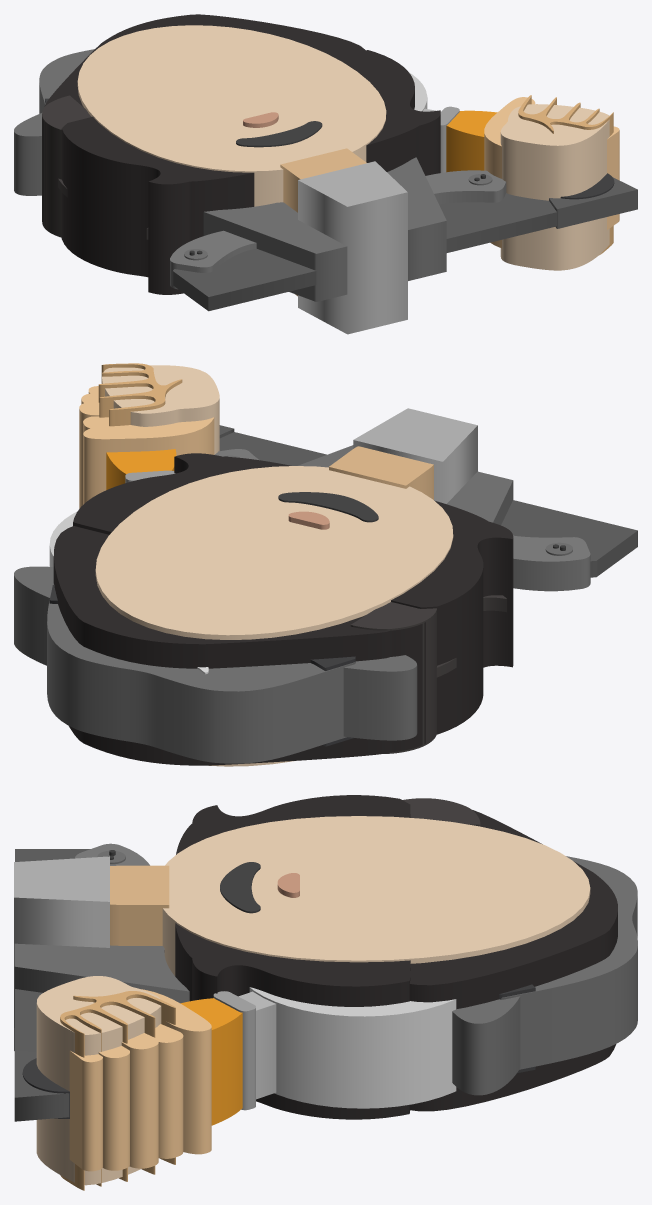
The model's file is emoji_u1f575_1f3fb.glb.
3 renders of one model, top to bottom at view 1: azimuth 30°, elevation 25°; view 2: azimuth 150°, elevation 25°; view 3: azimuth 270°, elevation 25°, orthographic. The views are drawn at different scales.
Visible parts, largest first — view 1: emoji_u1f575_1f3fb; view 2: emoji_u1f575_1f3fb; view 3: emoji_u1f575_1f3fb.
Boxes of the visible parts, bbox=[...] form: emoji_u1f575_1f3fb: bbox=[14, 14, 637, 334]; emoji_u1f575_1f3fb: bbox=[14, 363, 637, 766]; emoji_u1f575_1f3fb: bbox=[14, 795, 637, 1190].
Size of the model in its own units: 0.0326 by 0.0092 by 0.0331.
